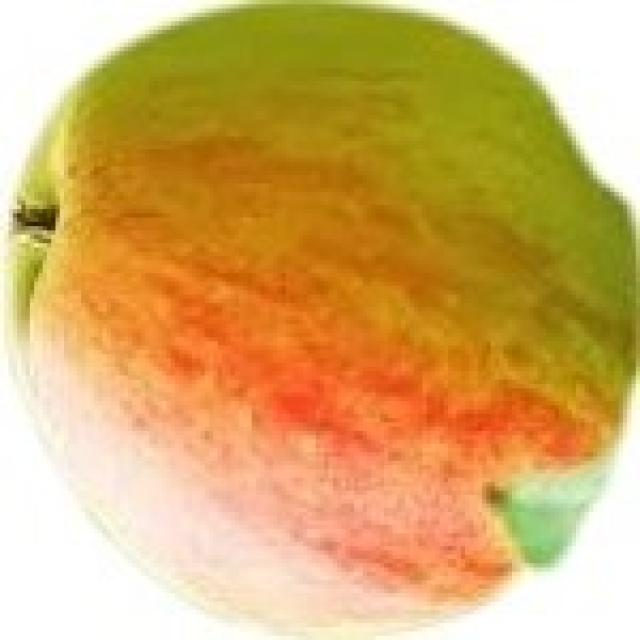75-_ripeness: (5, 6, 638, 631)
